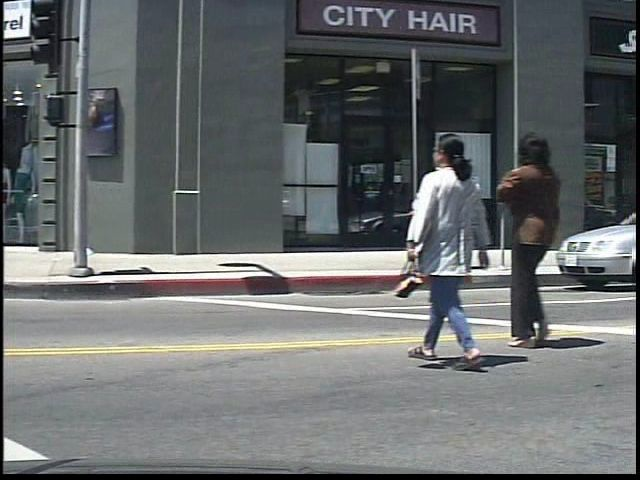person: (505, 125, 598, 354), (417, 121, 500, 371)
